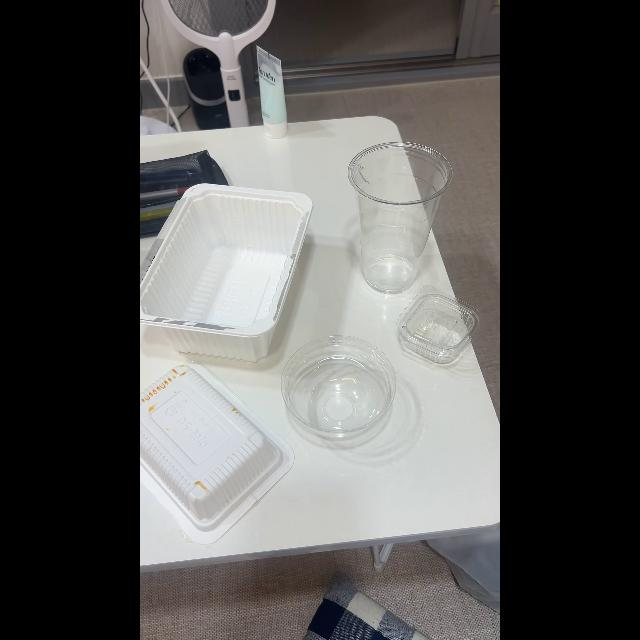clean: (140, 185, 308, 360), (344, 148, 436, 294), (287, 346, 395, 448), (403, 296, 471, 370)
dirty: (140, 362, 272, 534)
